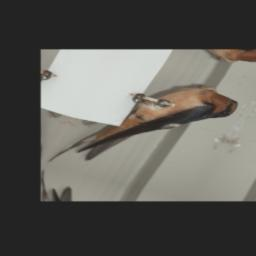Swallow: (49, 66, 244, 196)
